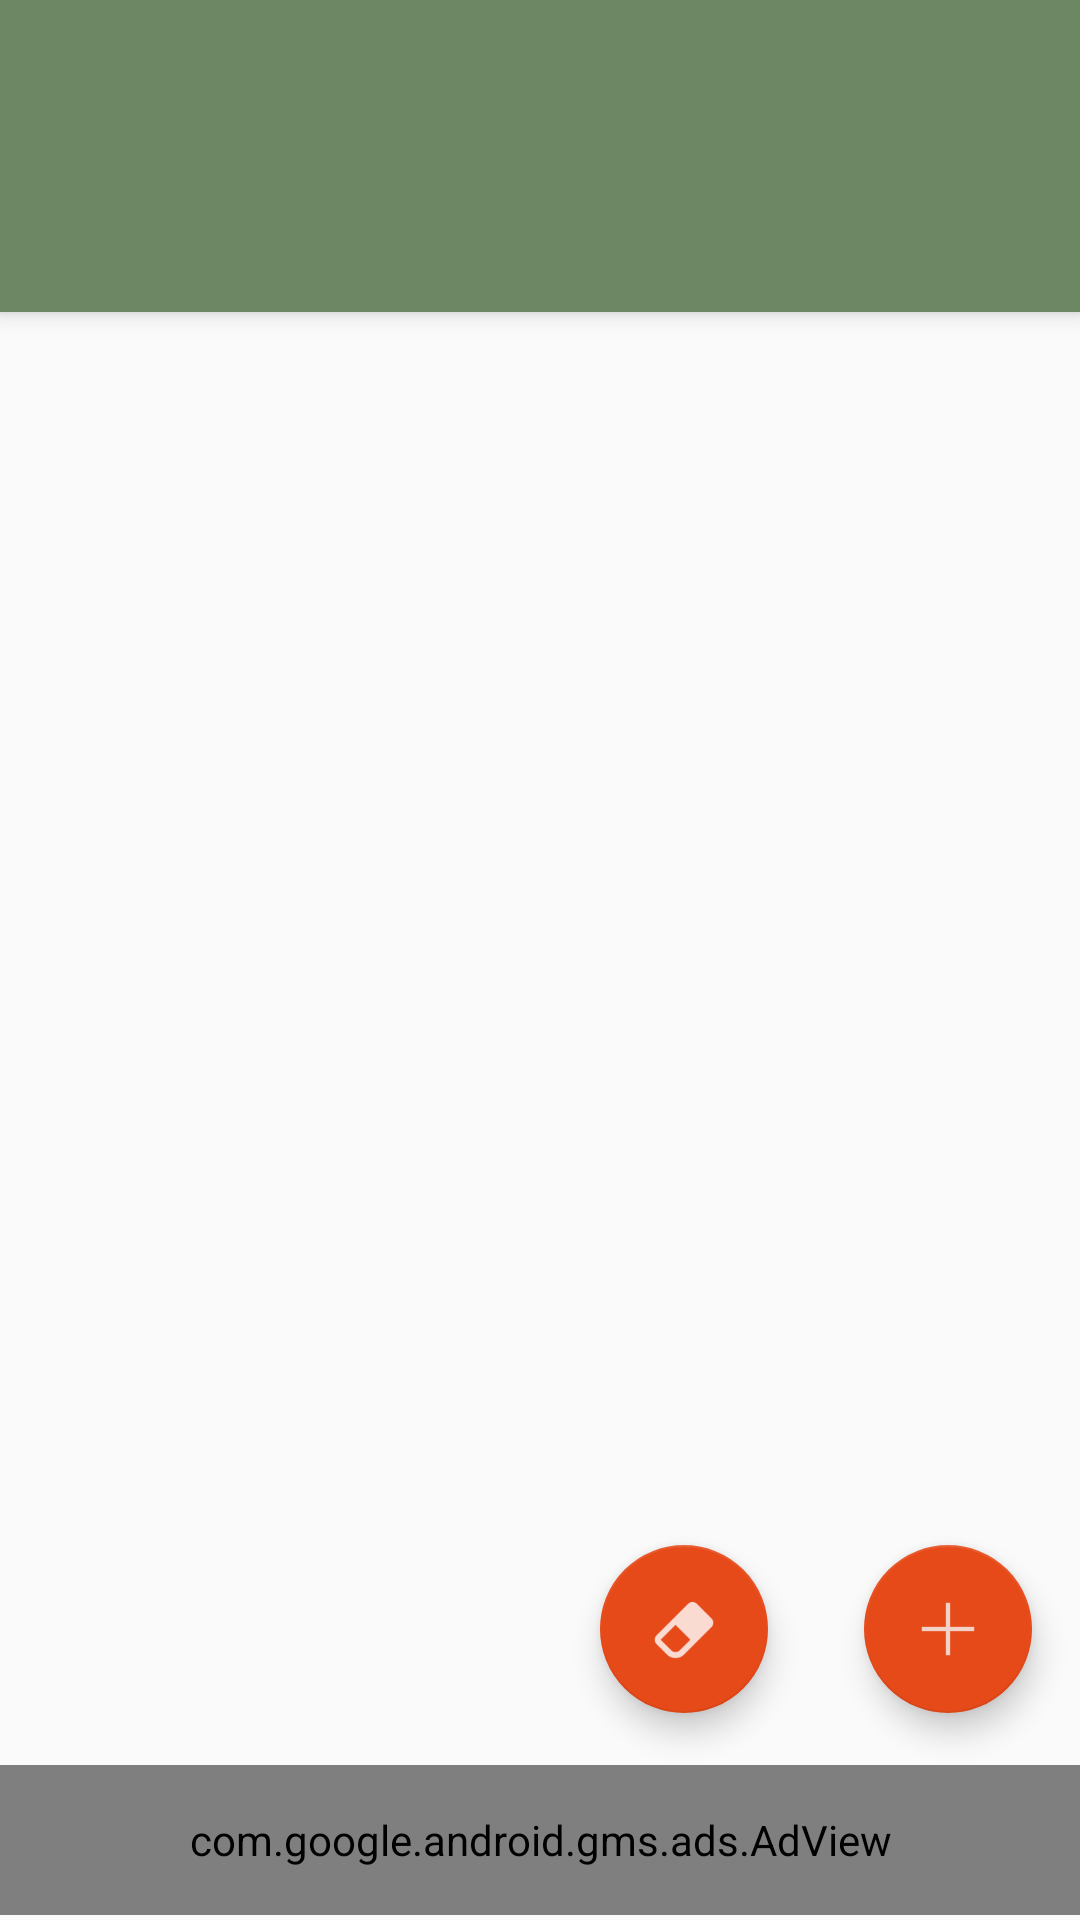

Where to tap for icons on this 1080*1920 app screen, as (x,y):
eraser: (684,1629)
plus: (948,1629)
